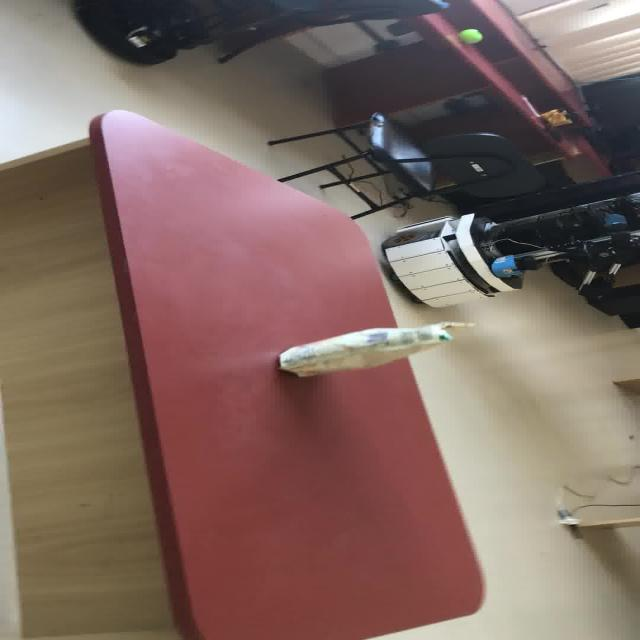corn flakes: (275, 319, 474, 378)
